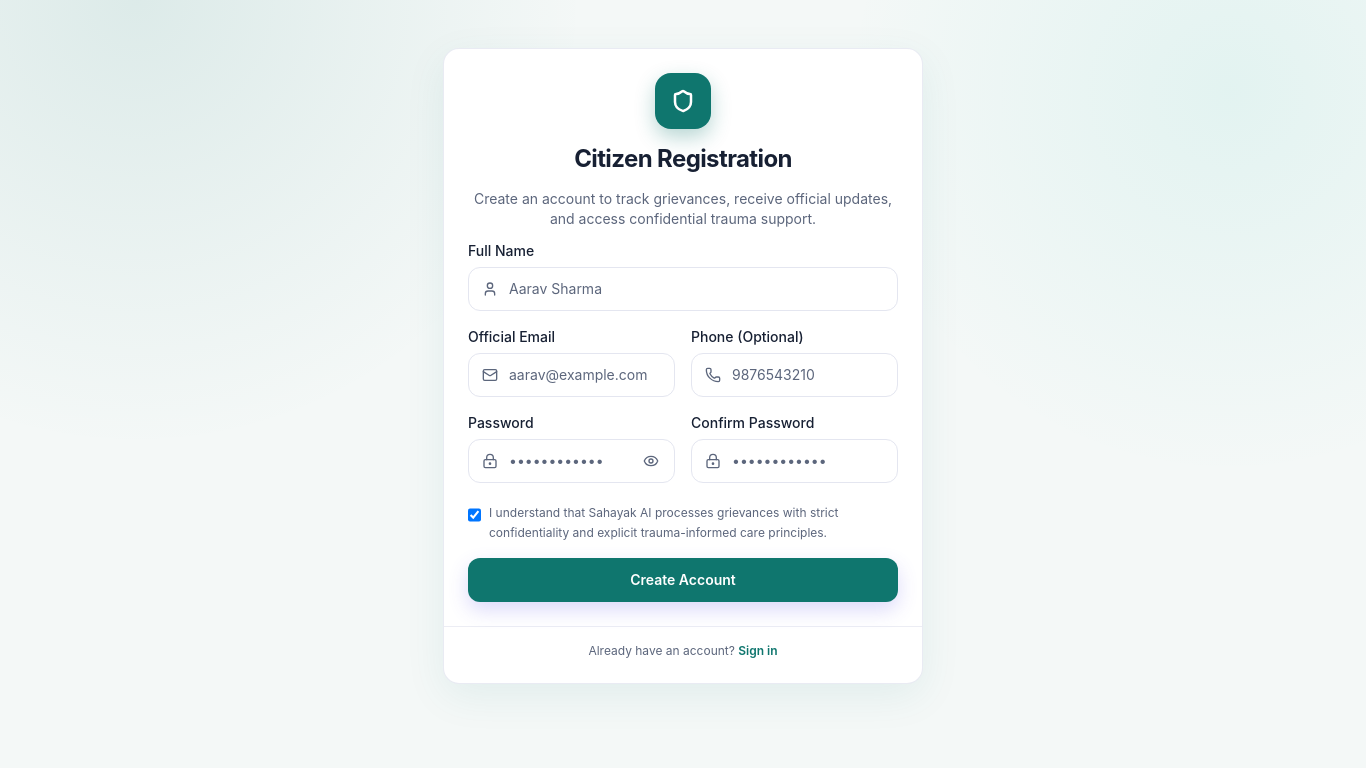
Test case: RegisterPage Integration Tests › displays duplicate email error from backend
In the field labelled "Full Name": (683, 289) [468,267,898,311], type "Duplicate User"
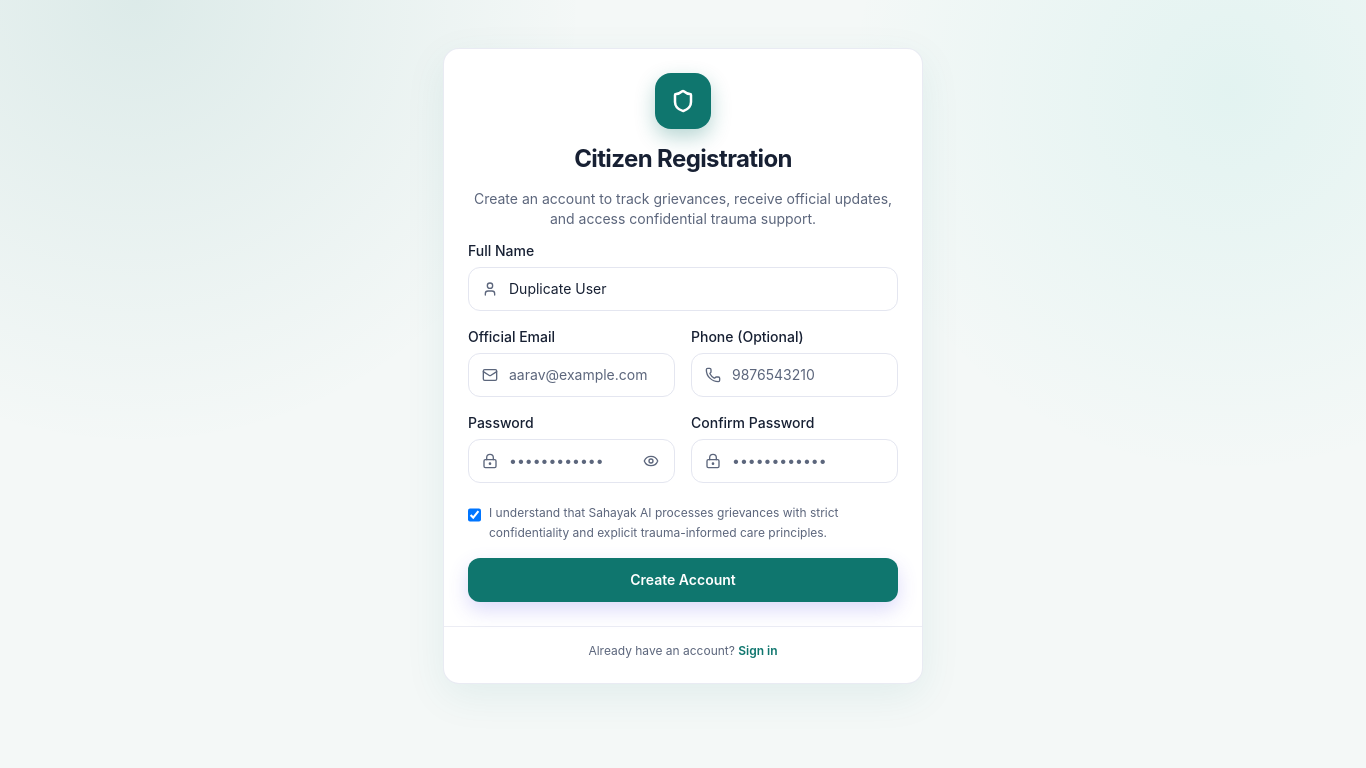
In the field labelled "Official Email": (572, 375) [468,353,675,397], type "duplicate@example.com"
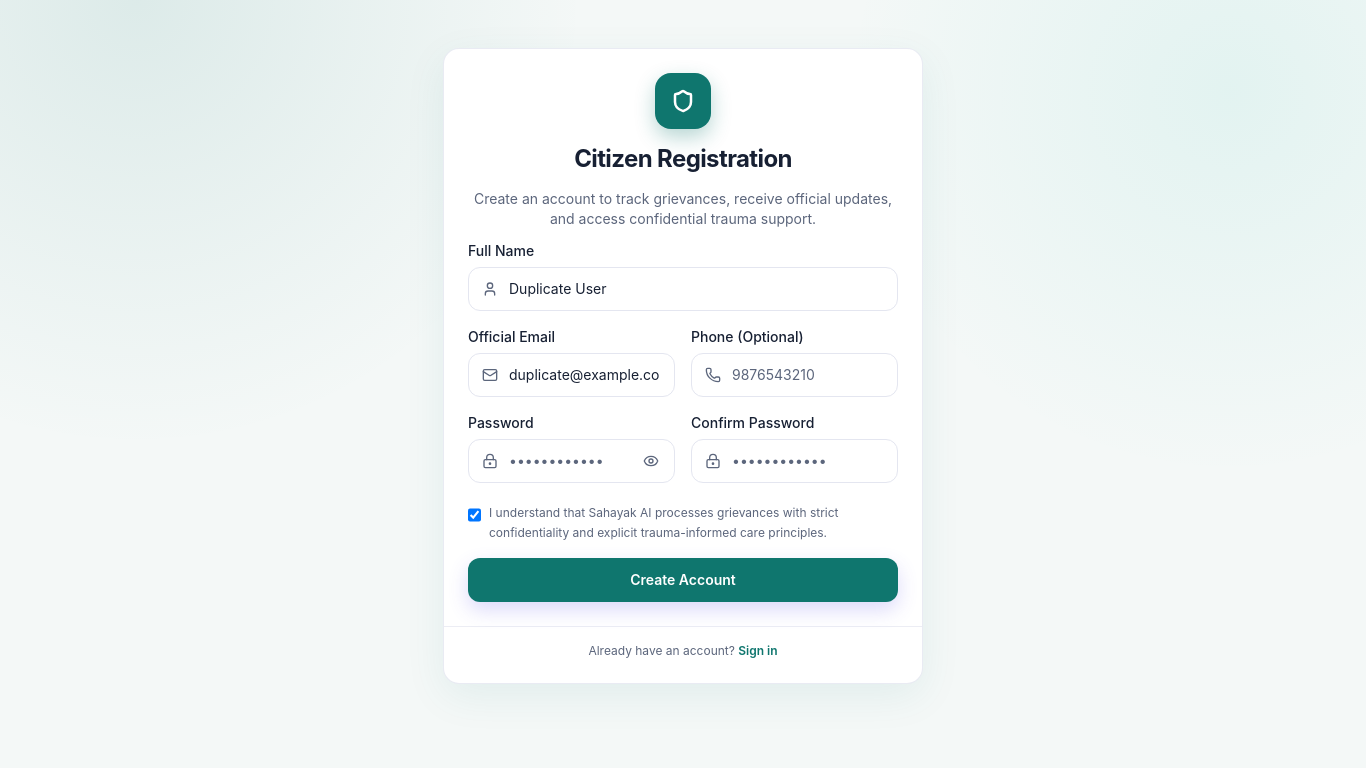
In the password field labelled "Password": (572, 461) [468,439,675,483], type "Password@123"
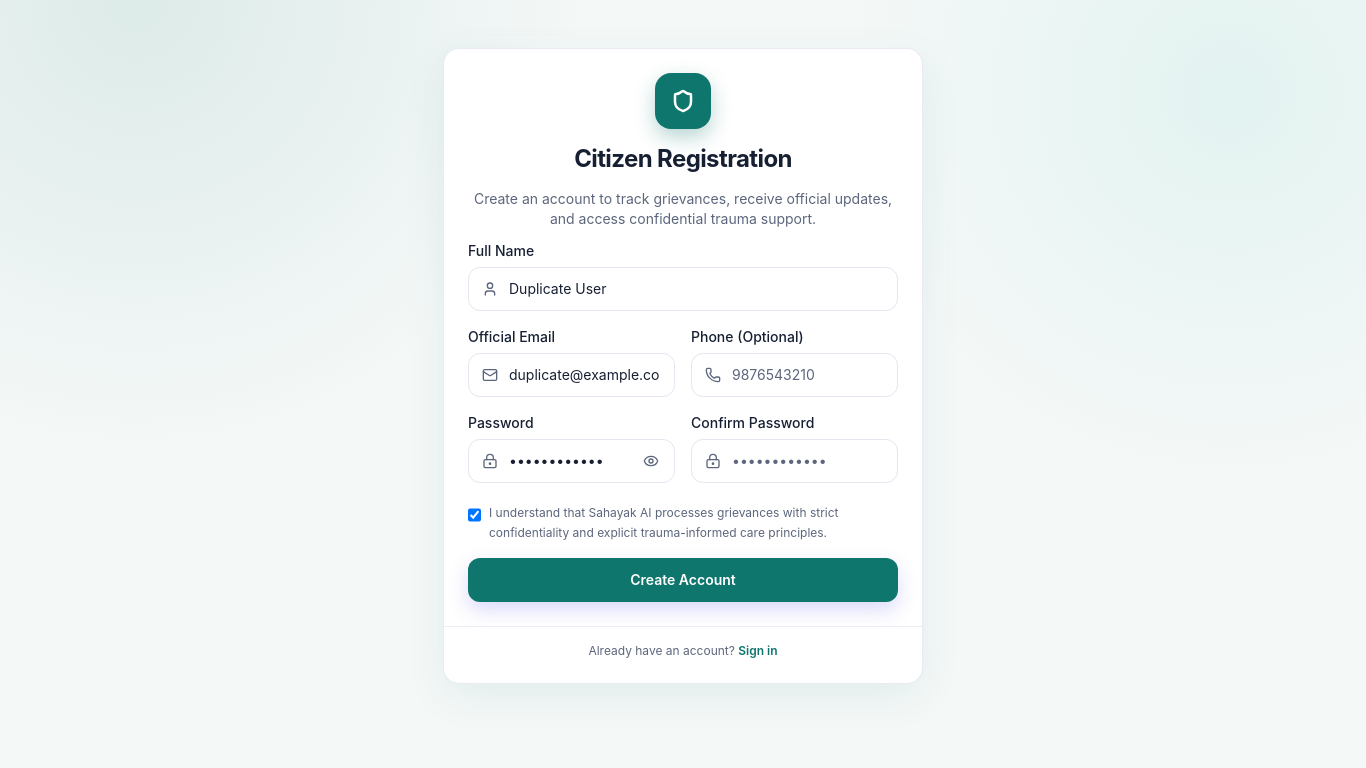
In the password field labelled "Confirm Password": (794, 461) [691,439,898,483], type "Password@123"
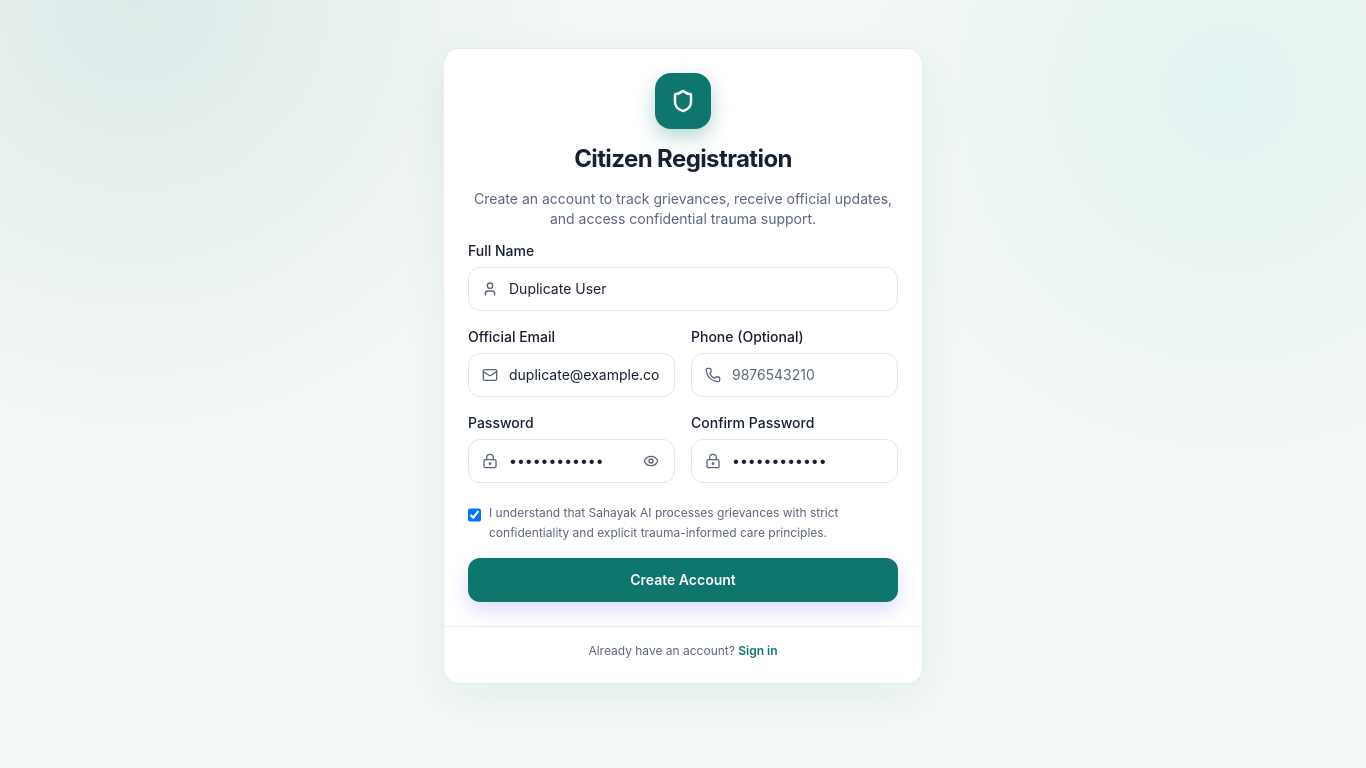
Click the button "Create Account": (683, 580) [468,558,898,602]
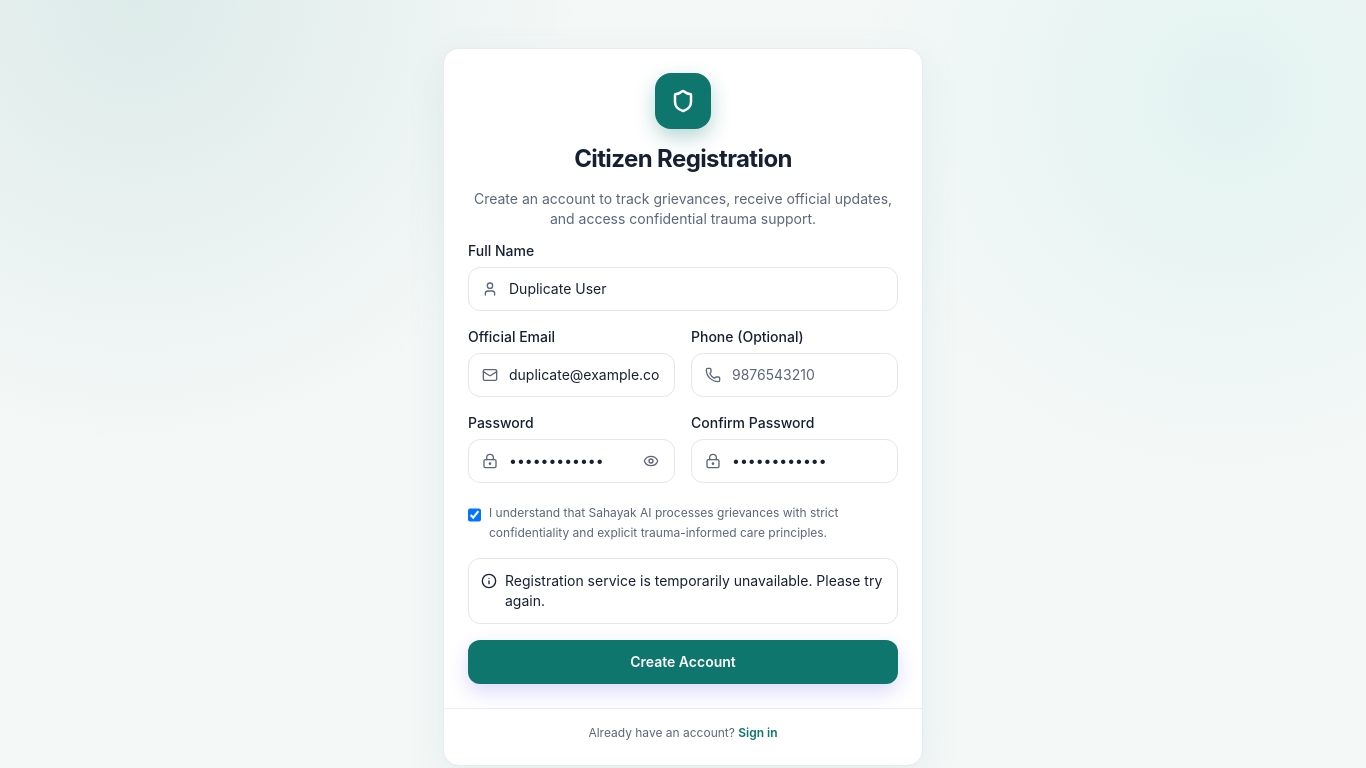
Now the text "An account with this email already exists." is shown, box [505,571,885,611]
